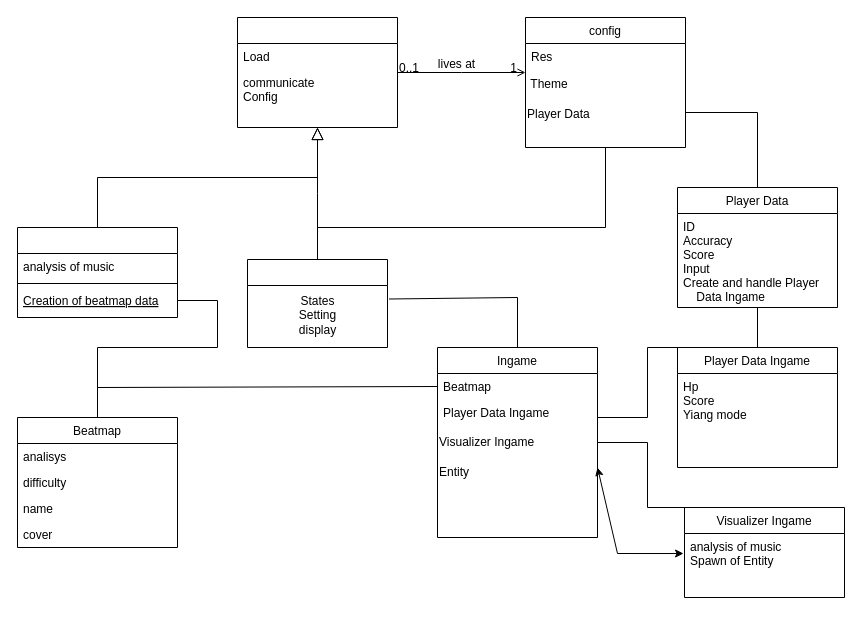
Image size: 862x618. Some labels were removed from this diagram. Here are the shapes that lost their labels. From the top down, the box of each, then its label:
(236, 16, 398, 128): Core
(16, 226, 178, 318): Visualizer
(246, 258, 388, 348): Menu
